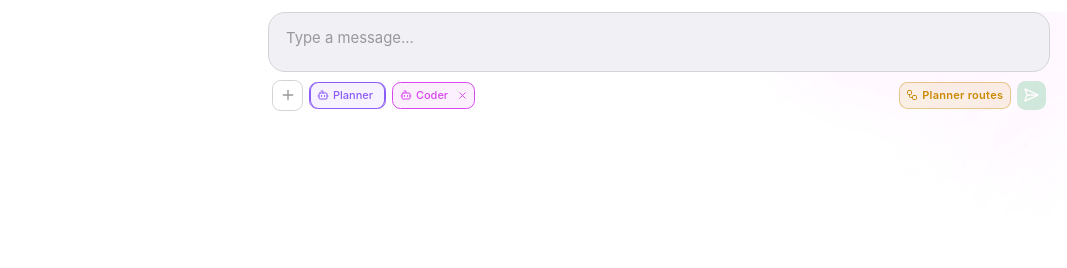
the agent chip menu › disables Set as Coordinator while an autonomous task holds the chat
Right-click the element showing "Coder" at (434, 95), box top-left (392, 82), bottom-right (475, 109)
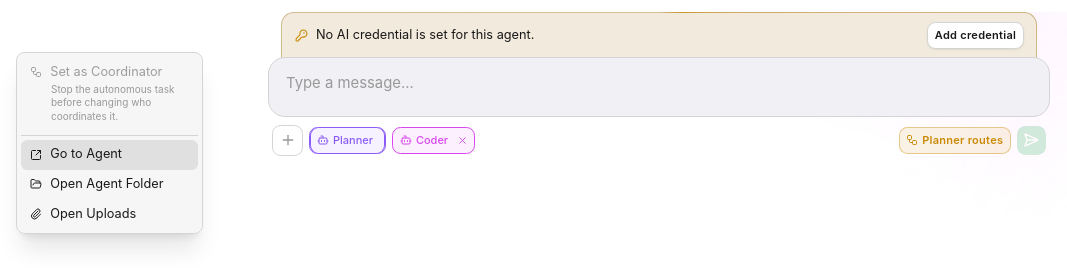
Now the menu item "Set as Coordinator" is disabled, box top-left (21, 57), bottom-right (198, 87)
Now the text "Stop the autonomous task before changing who coordinates it." is shown, box top-left (51, 83), bottom-right (174, 122)
